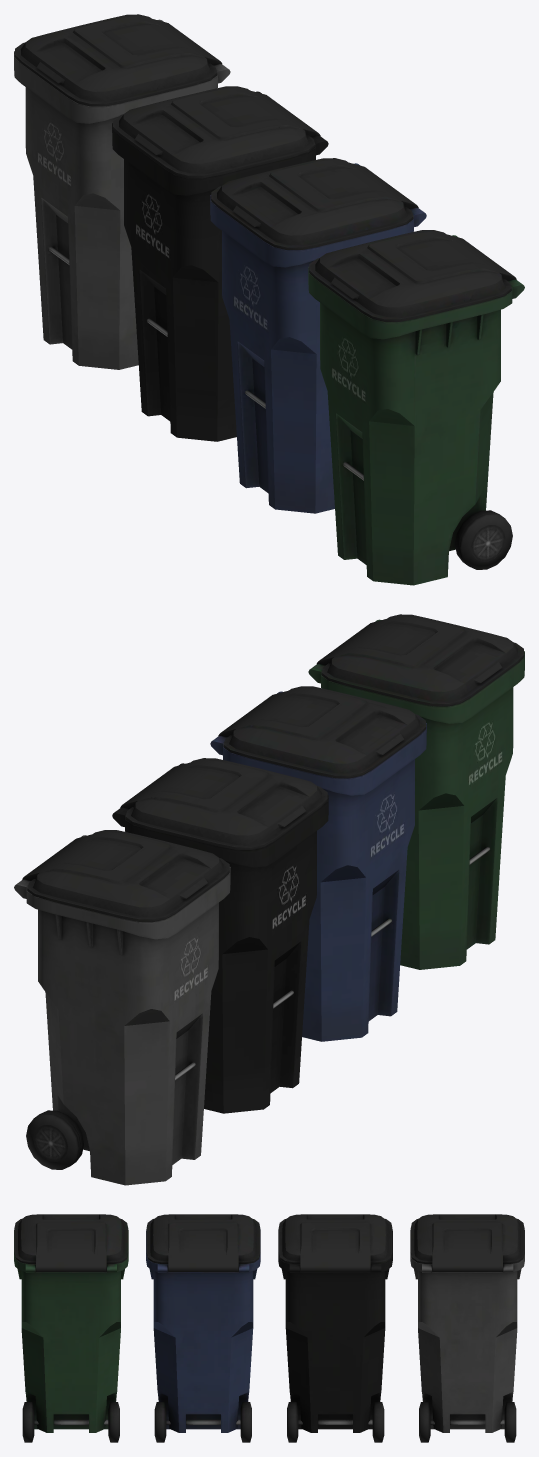
File: wheelie.glb
The picture shows the model from 3 angles, top to bottom: view 1: azimuth 30°, elevation 25°; view 2: azimuth 150°, elevation 25°; view 3: azimuth 270°, elevation 25°; orthographic projection. The views are drawn at different scales.
Visible parts, largest first — view 1: TrashCan_Green, TrashCan_Grey, TrashCan_Black, TrashCan_Blue; view 2: TrashCan_Grey, TrashCan_Green, TrashCan_Blue, TrashCan_Black; view 3: TrashCan_Black, TrashCan_Blue, TrashCan_Grey, TrashCan_Green.
Boxes of the visible parts, bbox=[...] form: TrashCan_Green: bbox=[308, 230, 524, 585]; TrashCan_Grey: bbox=[14, 14, 230, 369]; TrashCan_Black: bbox=[112, 86, 328, 441]; TrashCan_Blue: bbox=[210, 158, 426, 513]; TrashCan_Grey: bbox=[14, 830, 230, 1185]; TrashCan_Green: bbox=[308, 614, 524, 969]; TrashCan_Blue: bbox=[210, 686, 426, 1041]; TrashCan_Black: bbox=[112, 758, 328, 1113]; TrashCan_Black: bbox=[278, 1214, 392, 1442]; TrashCan_Blue: bbox=[146, 1214, 260, 1442]; TrashCan_Grey: bbox=[410, 1214, 524, 1442]; TrashCan_Green: bbox=[14, 1214, 128, 1442].
Size of the model in its own units: 0.5754 by 1.07 by 2.49.
4 materials, 4 textured.
